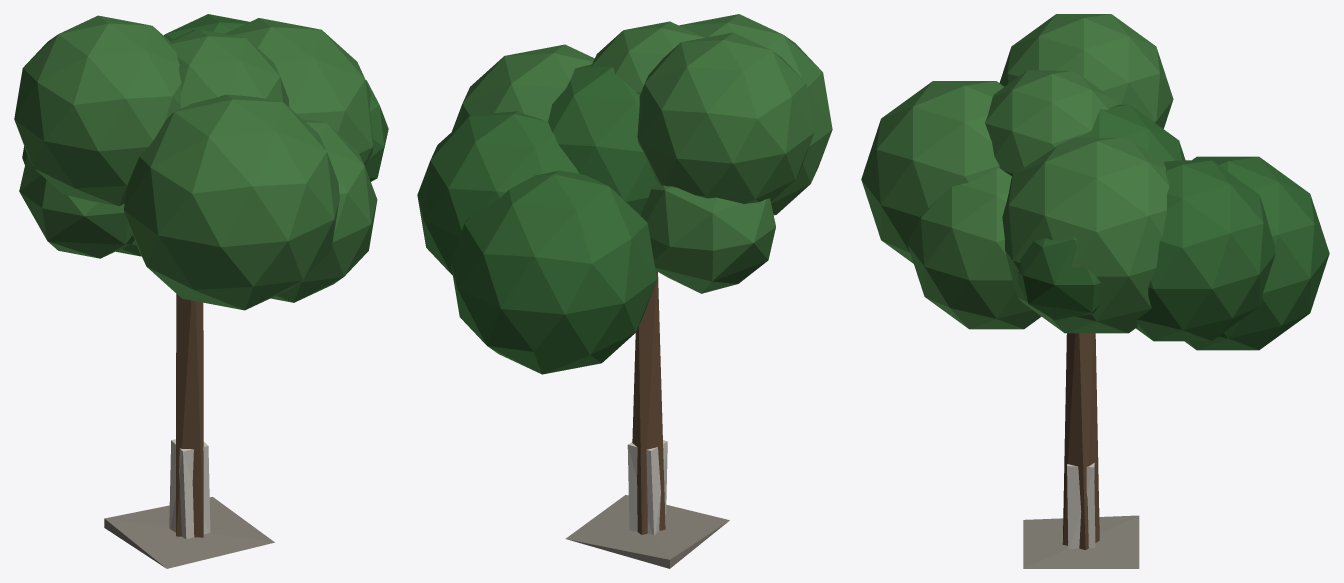
File: cay_xanh.glb
The picture shows the model from 3 angles, left to right: view 1: azimuth 30°, elevation 25°; view 2: azimuth 150°, elevation 25°; view 3: azimuth 270°, elevation 25°; orthographic projection. The views are drawn at different scales.
Parts seen in each view (by area): view 1: cay_xanh; view 2: cay_xanh; view 3: cay_xanh.
Boxes of the visible parts, x1,y1,x2,y2 form: cay_xanh: (14,14,388,568); cay_xanh: (417,14,832,568); cay_xanh: (861,14,1329,568).
Bounding box in the file's own units: 3.81 × 5.64 × 4.84.
